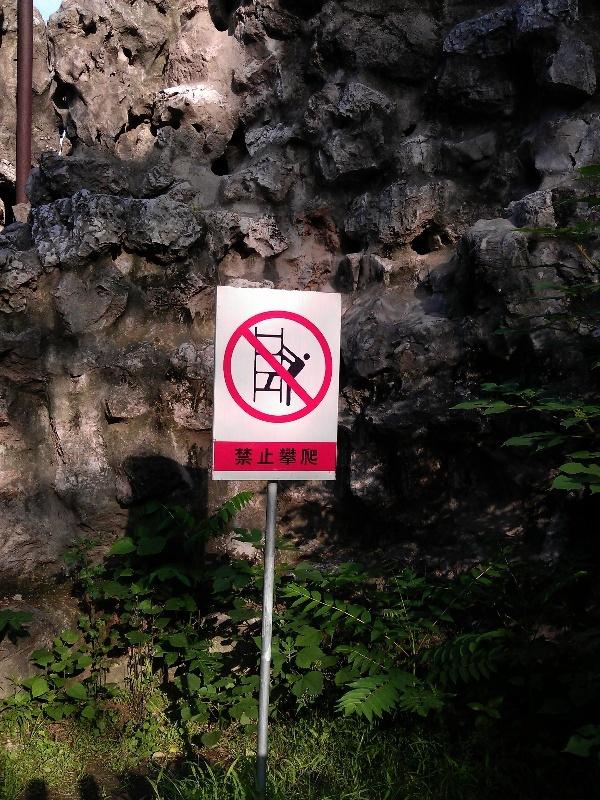text: (241, 446, 256, 468), (257, 446, 272, 468), (273, 446, 288, 468), (289, 446, 304, 468), (305, 446, 320, 468), (234, 446, 240, 468)
